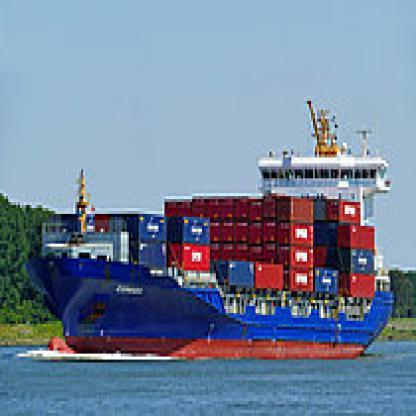Container Ship: (22, 98, 396, 361)
